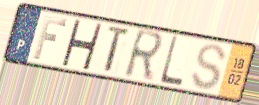F: (31, 15, 69, 62)
H: (59, 17, 104, 72)
L: (157, 34, 184, 89)
R: (121, 27, 166, 84)
S: (189, 43, 228, 92)
T: (103, 24, 133, 75)
